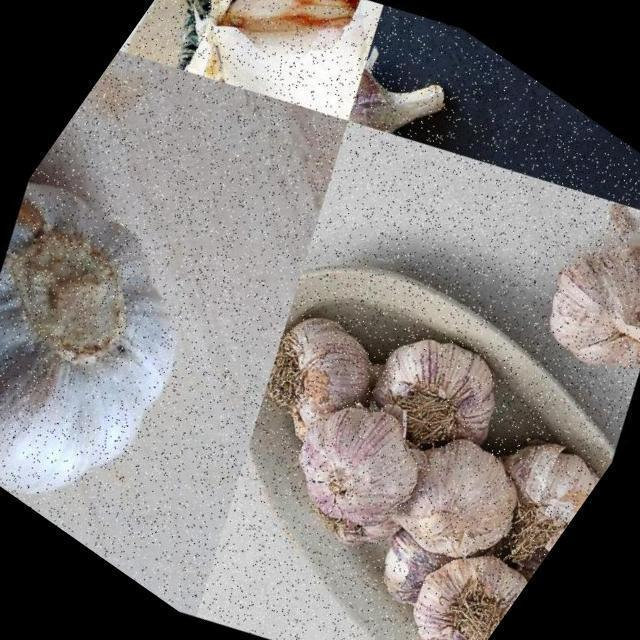garlic: (0, 121, 300, 561), (139, 0, 413, 166), (333, 286, 542, 494), (355, 399, 558, 602), (262, 368, 459, 566), (232, 283, 412, 465), (501, 200, 640, 407), (450, 402, 612, 572), (366, 510, 538, 640), (329, 24, 476, 169), (498, 64, 634, 170), (461, 501, 569, 633), (600, 144, 640, 235)
